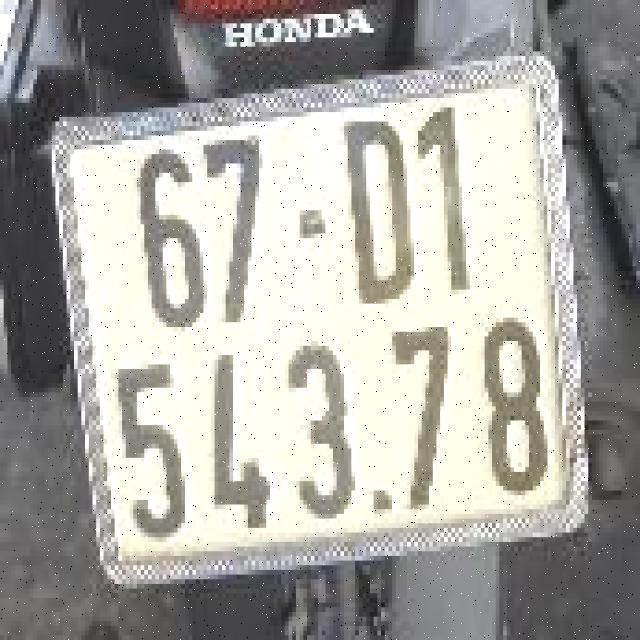1: (416, 98, 472, 299)
3: (283, 336, 361, 524)
4: (209, 346, 276, 537)
5: (113, 358, 190, 544)
6: (137, 144, 207, 332)
7: (385, 318, 455, 514), (206, 133, 264, 334)
8: (477, 313, 551, 500)
D: (342, 117, 416, 308)
